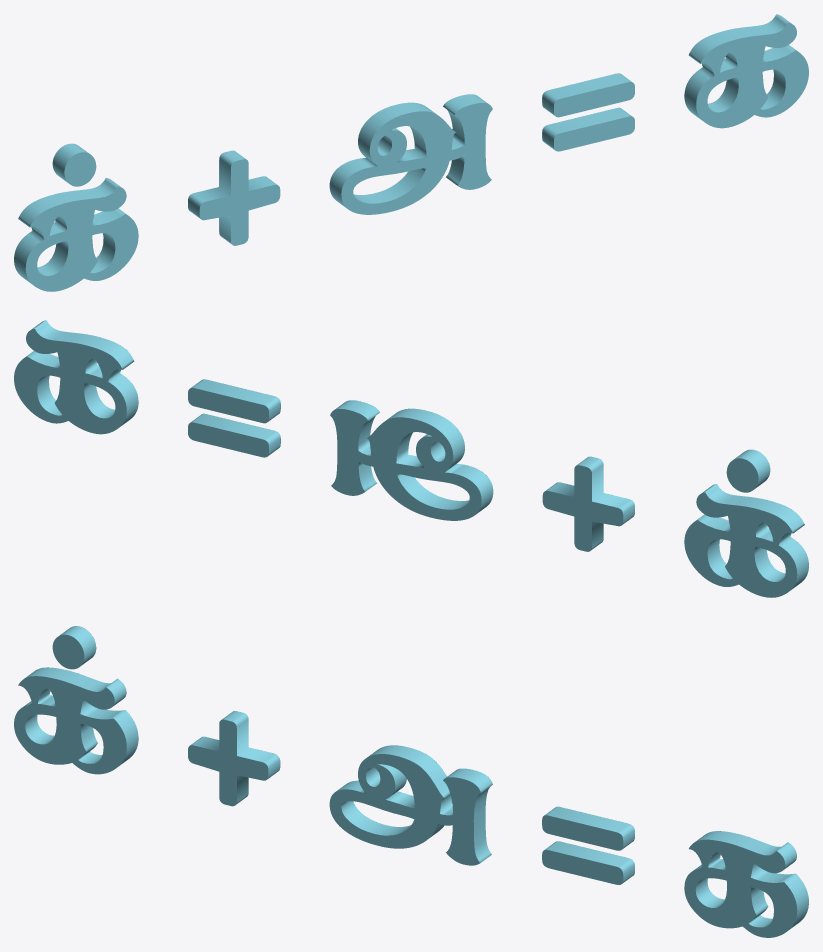
3 views of the same model, one above another, from view 1: azimuth 30°, elevation 25°; view 2: azimuth 150°, elevation 25°; view 3: azimuth 330°, elevation 25° (orthographic).
Parts seen in each view (by area): view 1: ka; view 2: ka; view 3: ka.
Boxes of the visible parts, x1=… form: ka: x1=14, y1=14, x2=808, y2=291; ka: x1=14, y1=320, x2=808, y2=597; ka: x1=14, y1=626, x2=808, y2=937.
Bounding box in the file's own units: 0.1659 × 0.0273 × 0.00432.
